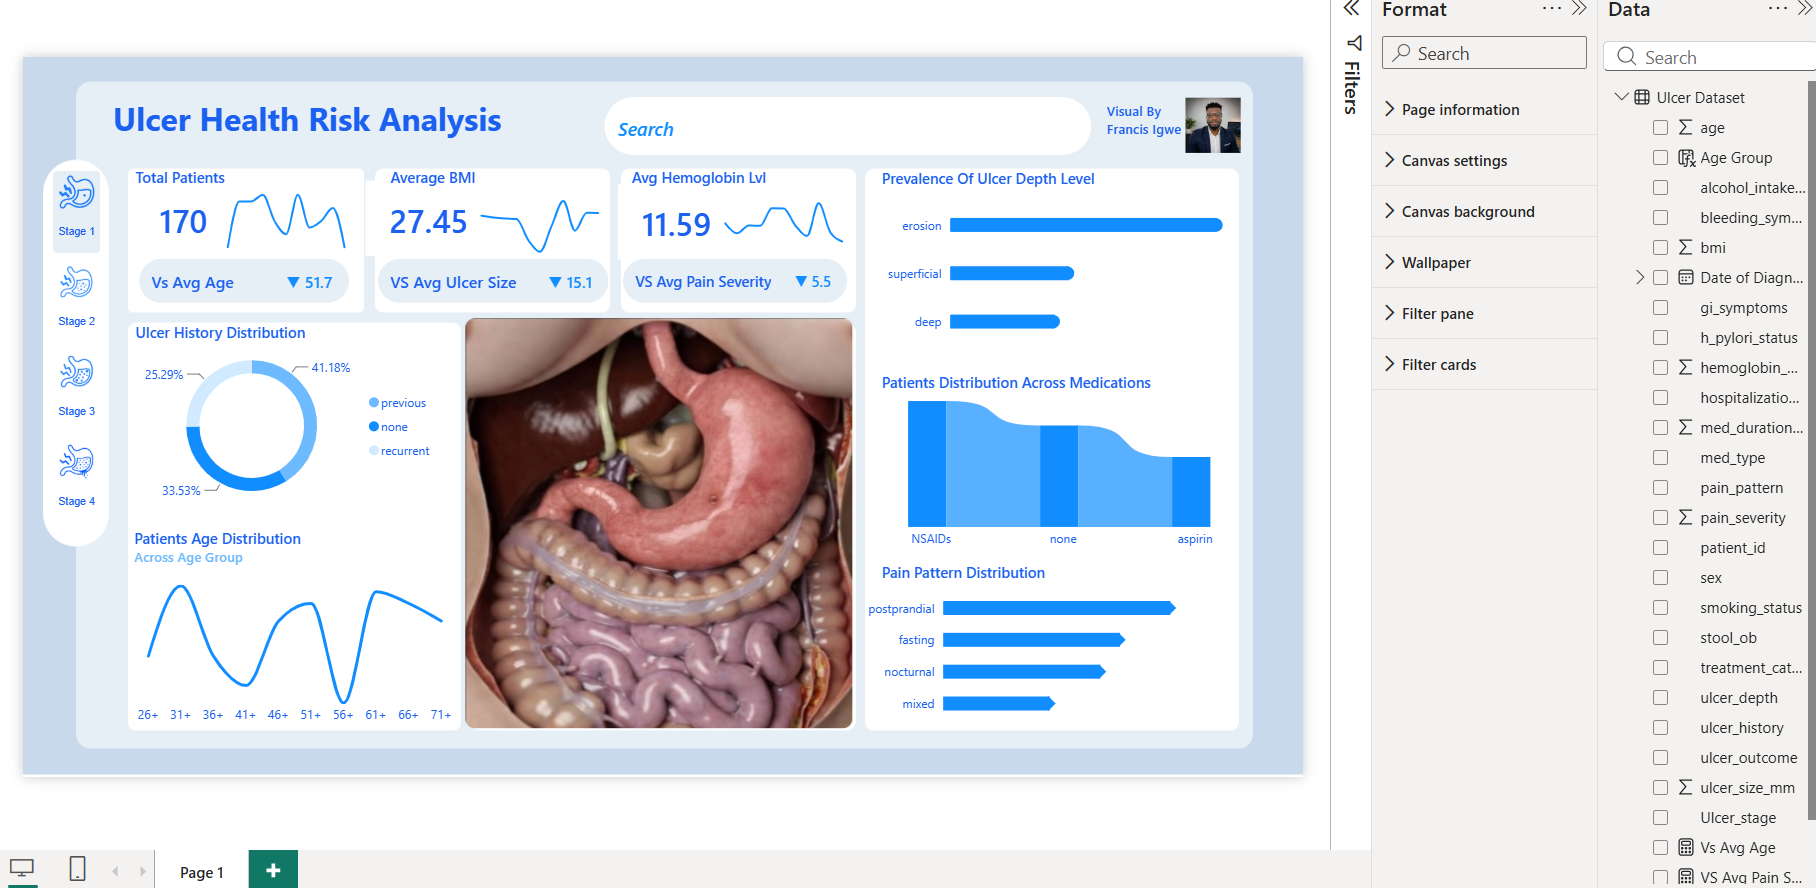

What the dashboard file says about the page in this screenshot:
{"tool":"powerbi","page":{"name":"Page 1","canvas":[1280,720],"ordinal":0},"visuals":[{"type":"ChicletSlicer1448559807354","fields":{"Category":["Ulcer Image Dataset.Ulcer_stage"],"Image":["Ulcer Image Dataset.Icon_Url"]},"box":[21.4,105,65.9,388],"z":0},{"type":"imageDB603108E3FF4EBFB8047F5653368E8C","fields":{"imageUrl":["Ulcer Image Dataset.Image_Url"]},"box":[437.8,256.3,396.9,420],"z":1000},{"type":"cardVisual","fields":{"Data":["Count(Ulcer Dataset.patient_id)"]},"box":[87.1,104.8,267.7,171],"z":2000},{"type":"cardVisual","fields":{"Data":["Count(Ulcer Dataset.patient_id)"]},"box":[108.1,119.4,112.9,85.5],"z":3000},{"type":"cardVisual","fields":{"Data":["Avg(Ulcer Dataset.hemoglobin_g_dl)"]},"box":[590.3,122.6,135.5,85.5],"z":4000},{"type":"cardVisual","fields":{"Data":["Count(Ulcer Dataset.patient_id)"]},"box":[571,104.8,282.3,171],"z":5000},{"type":"lineChart","fields":{"Category":["Ulcer Dataset.Date of Diagnosis.Variation.Date Hierarchy.Year"],"Y":["Count(Ulcer Dataset.patient_id)"]},"box":[190.3,117.7,146.8,85.5],"z":6000},{"type":"lineChart","fields":{"Category":["Ulcer Dataset.Date of Diagnosis.Variation.Date Hierarchy.Year"],"Y":["Avg(Ulcer Dataset.hemoglobin_g_dl)"]},"box":[687.1,122.6,146.8,85.5],"z":7000},{"type":"textbox","box":[108.1,104.8,112.9,32.3],"z":8000},{"type":"cardVisual","fields":{"Data":["Count(Ulcer Dataset.patient_id)"]},"box":[325.8,104.8,288.7,171],"z":9000},{"type":"cardVisual","fields":{"Data":["Avg(Ulcer Dataset.bmi)"]},"box":[337.1,119.4,141.9,85.5],"z":10000},{"type":"lineChart","fields":{"Category":["Ulcer Dataset.Date of Diagnosis.Variation.Date Hierarchy.Year"],"Y":["Avg(Ulcer Dataset.bmi)"]},"box":[443.5,117.7,146.8,85.5],"z":11000},{"type":"textbox","box":[362.9,104.8,148.4,35.5],"z":12000},{"type":"textbox","box":[603.2,104.8,219.4,32.3],"z":13000},{"type":"donutChart","fields":{"Category":["Ulcer Dataset.ulcer_history"],"Y":["Count(Ulcer Dataset.patient_id)"]},"box":[108.1,271,312.9,195.2],"z":14000},{"type":"textbox","box":[108.1,259.7,200,38.7],"z":15000},{"type":"lineChart","fields":{"Y":["Count(Ulcer Dataset.patient_id)"],"Category":["Ulcer Dataset.Age Group"]},"box":[108.1,514.5,329,161.3],"z":16000},{"type":"textbox","box":[106.5,466.1,201.6,48.4],"z":17000},{"type":"barChart","fields":{"Category":["Ulcer Dataset.ulcer_depth"],"Y":["CountNonNull(Ulcer Dataset.patient_id)"]},"box":[853.2,117.7,364.5,191.9],"z":18000},{"type":"textbox","box":[853.2,106.5,348.4,33.9],"z":19000},{"type":"columnChart","fields":{"Category":["Ulcer Dataset.med_type"],"Y":["Count(Ulcer Dataset.patient_id)"]},"box":[827.4,316.1,425.8,183.9],"z":20000},{"type":"textbox","box":[853.2,309.7,348.4,37.1],"z":21000},{"type":"barChart","fields":{"Category":["Ulcer Dataset.pain_pattern"],"Y":["Count(Ulcer Dataset.patient_id)"]},"box":[833.9,514.5,383.9,161.3],"z":22000},{"type":"textbox","box":[853.2,500,214.5,35.5],"z":23000},{"type":"shape","box":[580.6,40.3,487.1,58.1],"z":24000},{"type":"textbox","box":[590.3,53.2,145.2,45.2],"z":25000},{"type":"textbox","box":[85.5,35.5,482.3,62.9],"z":26000},{"type":"textbox","box":[1079,40.3,95.2,66.1],"z":27000},{"type":"image","box":[1162.9,37.1,54.8,61.3],"z":28000}]}

Visuals, with their boxes on the page's 1280x720 design canvas (x1, y1, x2, y2). These are canvas units, not pixel positions in the 1816x888 screenshot, which may show the page scaled, cropped or inside an application window:
ChicletSlicer1448559807354 - Ulcer Image Dataset.Ulcer_stage x Ulcer Image Dataset.Icon_Url: bbox(21, 105, 87, 493)
imageDB603108E3FF4EBFB8047F5653368E8C - Ulcer Image Dataset.Image_Url: bbox(438, 256, 835, 676)
cardVisual - Count(Ulcer Dataset.patient_id): bbox(87, 105, 355, 276)
cardVisual - Count(Ulcer Dataset.patient_id): bbox(108, 119, 221, 205)
cardVisual - Avg(Ulcer Dataset.hemoglobin_g_dl): bbox(590, 123, 726, 208)
cardVisual - Count(Ulcer Dataset.patient_id): bbox(571, 105, 853, 276)
lineChart - Ulcer Dataset.Date of Diagnosis.Variation.Date Hierarchy.Year x Count(Ulcer Dataset.patient_id): bbox(190, 118, 337, 203)
lineChart - Ulcer Dataset.Date of Diagnosis.Variation.Date Hierarchy.Year x Avg(Ulcer Dataset.hemoglobin_g_dl): bbox(687, 123, 834, 208)
textbox: bbox(108, 105, 221, 137)
cardVisual - Count(Ulcer Dataset.patient_id): bbox(326, 105, 614, 276)
cardVisual - Avg(Ulcer Dataset.bmi): bbox(337, 119, 479, 205)
lineChart - Ulcer Dataset.Date of Diagnosis.Variation.Date Hierarchy.Year x Avg(Ulcer Dataset.bmi): bbox(444, 118, 590, 203)
textbox: bbox(363, 105, 511, 140)
textbox: bbox(603, 105, 823, 137)
donutChart - Ulcer Dataset.ulcer_history x Count(Ulcer Dataset.patient_id): bbox(108, 271, 421, 466)
textbox: bbox(108, 260, 308, 298)
lineChart - Count(Ulcer Dataset.patient_id) x Ulcer Dataset.Age Group: bbox(108, 514, 437, 676)
textbox: bbox(106, 466, 308, 514)
barChart - Ulcer Dataset.ulcer_depth x CountNonNull(Ulcer Dataset.patient_id): bbox(853, 118, 1218, 310)
textbox: bbox(853, 106, 1202, 140)
columnChart - Ulcer Dataset.med_type x Count(Ulcer Dataset.patient_id): bbox(827, 316, 1253, 500)
textbox: bbox(853, 310, 1202, 347)
barChart - Ulcer Dataset.pain_pattern x Count(Ulcer Dataset.patient_id): bbox(834, 514, 1218, 676)
textbox: bbox(853, 500, 1068, 536)
shape: bbox(581, 40, 1068, 98)
textbox: bbox(590, 53, 736, 98)
textbox: bbox(86, 36, 568, 98)
textbox: bbox(1079, 40, 1174, 106)
image: bbox(1163, 37, 1218, 98)
